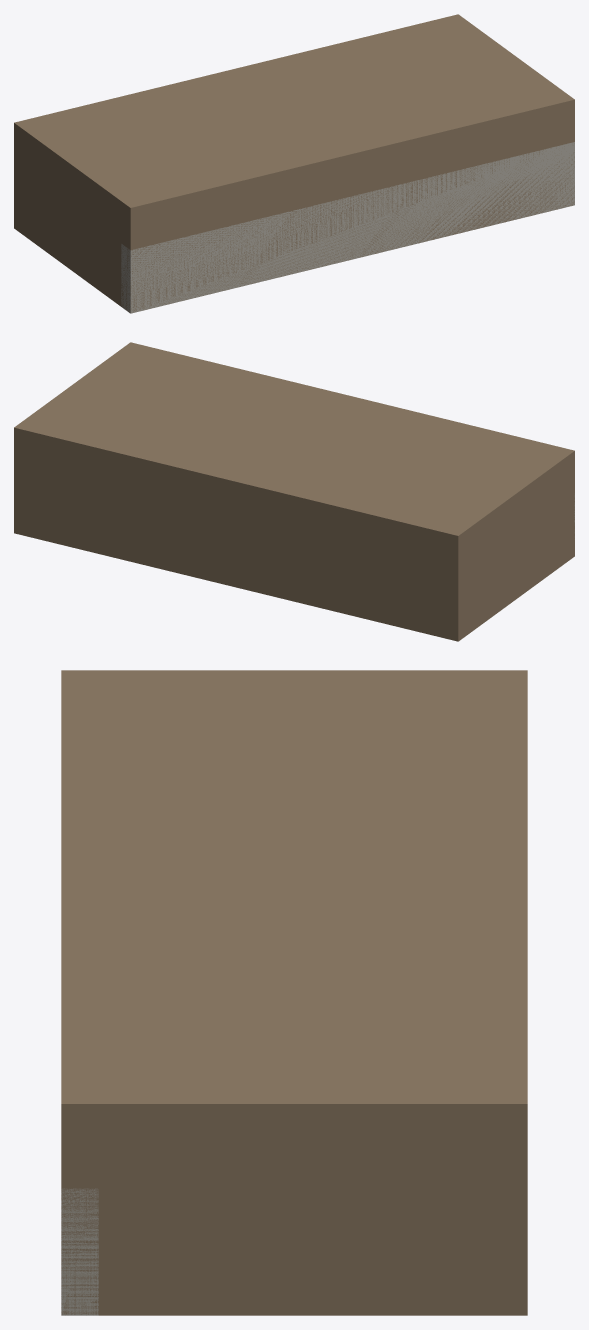
File: fort-stables.fort-v2.lod2.glb
The picture shows the model from 3 angles, top to bottom: view 1: azimuth 30°, elevation 25°; view 2: azimuth 150°, elevation 25°; view 3: azimuth 270°, elevation 25°; orthographic projection. The views are drawn at different scales.
Visible parts, largest first — view 1: fort-stables; view 2: fort-stables; view 3: fort-stables.
Part boxes in pixels (<box>): fort-stables: <box>14,14,574,313</box>; fort-stables: <box>14,342,574,641</box>; fort-stables: <box>61,670,527,1315</box>.
Bounding box in the file's own units: 22 × 5 × 10.
